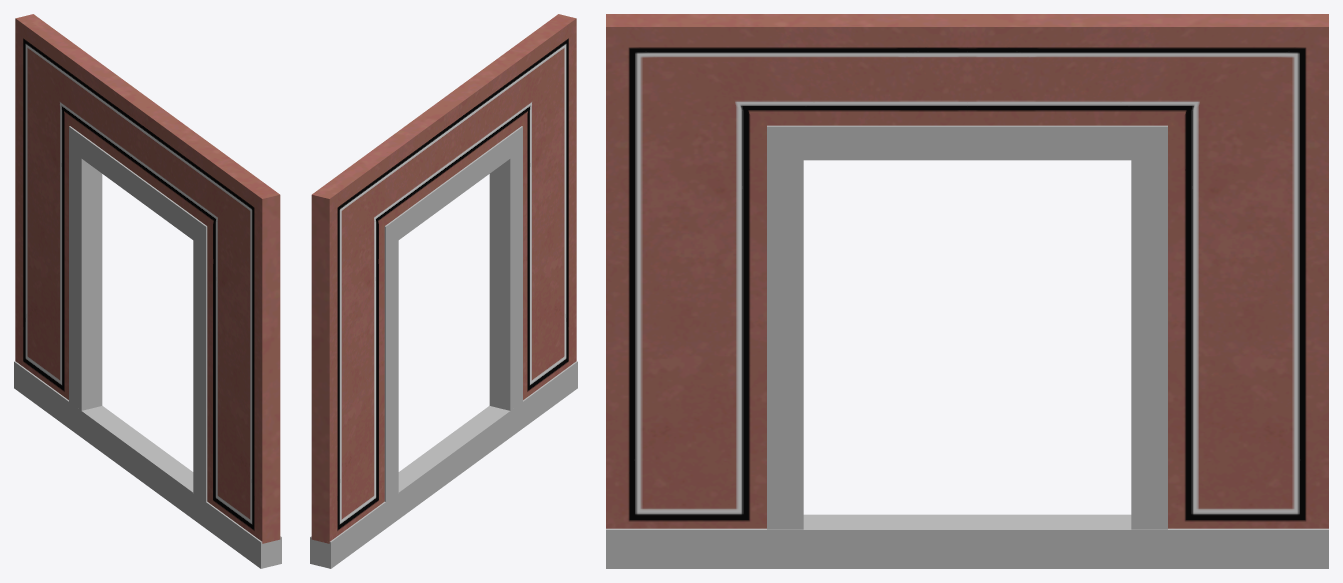
Rendered from SM_Wall02M.fbx.
3 views of the same model, side by side, from view 1: azimuth 30°, elevation 25°; view 2: azimuth 150°, elevation 25°; view 3: azimuth 270°, elevation 25° (orthographic). The views are drawn at different scales.
Parts seen in each view (by area): view 1: SM_Wall02M; view 2: SM_Wall02M; view 3: SM_Wall02M.
Part boxes in pixels (x1,y1,x2,y2): SM_Wall02M: (14, 14, 281, 568); SM_Wall02M: (310, 14, 577, 568); SM_Wall02M: (606, 14, 1328, 568).
Size of the model in its own units: 11.46 by 233 by 192.
